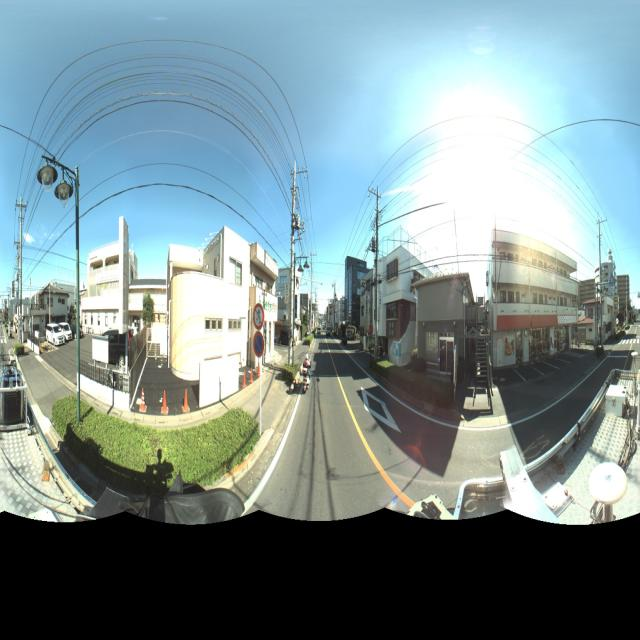b_1: (170, 217, 252, 410), (489, 231, 579, 362), (415, 264, 477, 382), (84, 223, 134, 354), (372, 244, 422, 349), (23, 275, 68, 352), (345, 255, 369, 335), (577, 280, 596, 322)
b_2: (246, 246, 318, 376)
